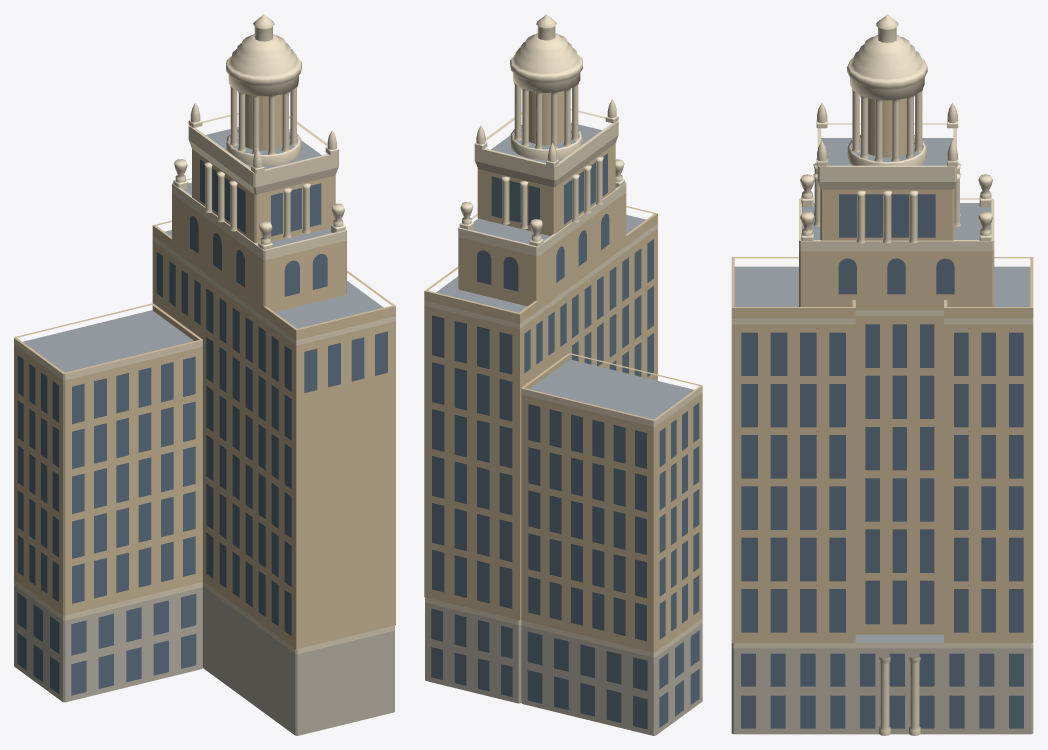
File: hou-niels-esperson-building.glb
3 views of the same model, side by side, from view 1: azimuth 30°, elevation 25°; view 2: azimuth 150°, elevation 25°; view 3: azimuth 270°, elevation 25° (orthographic). The views are drawn at different scales.
Visible parts, largest first — view 1: Niels Esperson Building; view 2: Niels Esperson Building; view 3: Niels Esperson Building.
Boxes of the visible parts, <box> form: Niels Esperson Building: <box>14,14,395,735</box>; Niels Esperson Building: <box>424,14,702,735</box>; Niels Esperson Building: <box>731,14,1033,735</box>.
Size of the model in its own units: 49.19 by 125 by 49.48.
